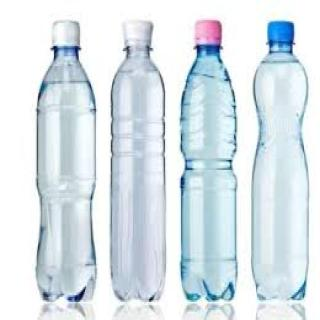Anorganik: (31, 15, 98, 307), (106, 14, 171, 308), (180, 14, 242, 306), (254, 16, 312, 305)
